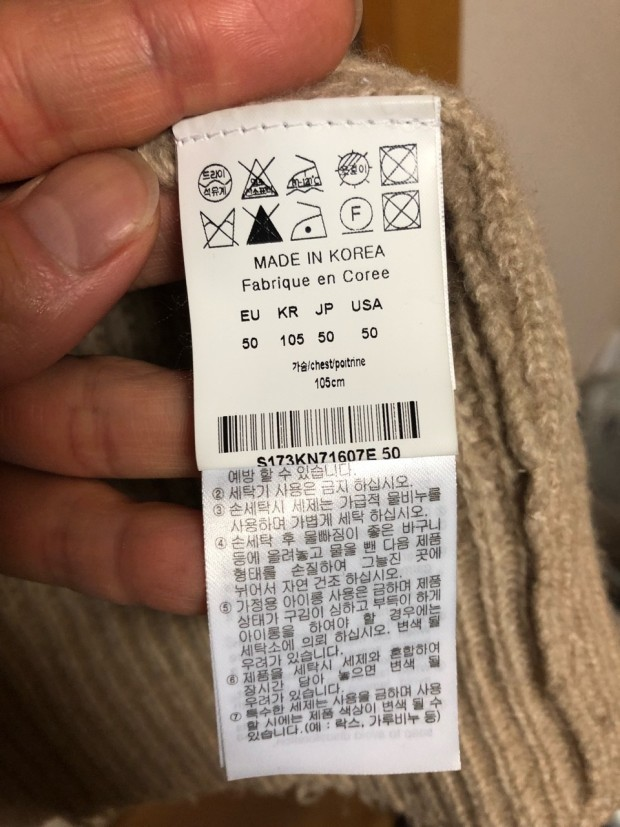ER_dry_clean_hydrocarbon_mild: (336, 196, 376, 237)
ER_iron_low_temp: (287, 197, 330, 244)
ER_no_bleach: (240, 201, 287, 248)
ER_no_tumble_dry: (380, 189, 425, 234)
ER_no_wash: (195, 207, 242, 254)
KR_dry_clean_petroleum: (195, 160, 235, 202)
KR_hang_dry_in_shade: (331, 147, 372, 188)
KR_iron_low_temp_with_cloth: (284, 152, 325, 198)
KR_no_bleach: (234, 156, 282, 199)
KR_no_tumble_dry: (376, 140, 421, 187)
